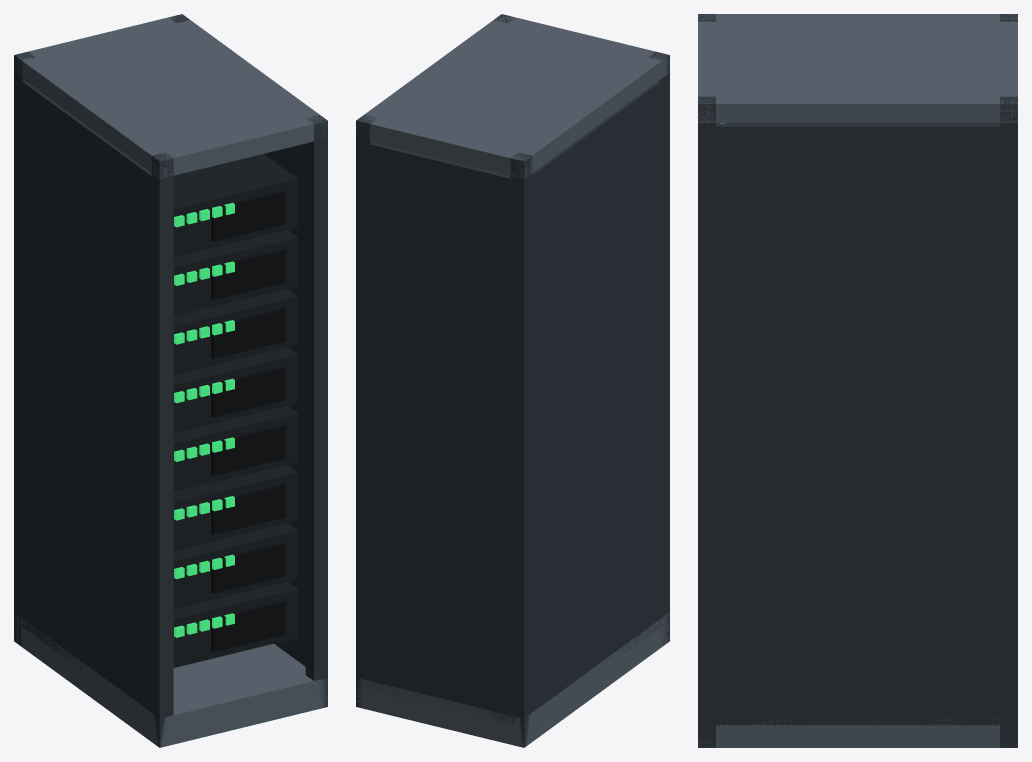
The model's file is mesh_server_rack.glb.
3 renders of one model, left to right at view 1: azimuth 30°, elevation 25°; view 2: azimuth 150°, elevation 25°; view 3: azimuth 270°, elevation 25°, orthographic. The views are drawn at different scales.
Visible parts, largest first — view 1: body, leds; view 2: body; view 3: body.
Part boxes in pixels (left/top/right/bottom): body: left=14, top=14, right=327, bottom=747; leds: left=174, top=202, right=234, bottom=637; body: left=356, top=14, right=669, bottom=747; body: left=698, top=14, right=1017, bottom=747.
Bounding box in the file's own units: 0.6 × 2 × 0.9.
